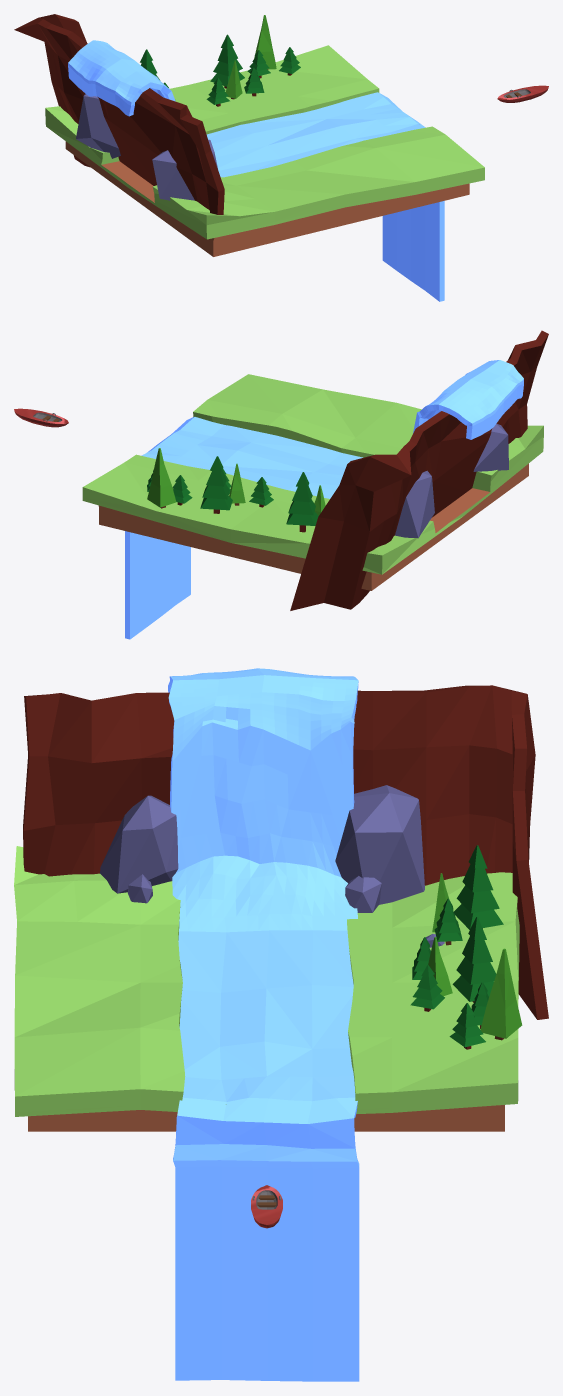
The model's file is waterfallV1.2.glb.
3 renders of one model, top to bottom at view 1: azimuth 30°, elevation 25°; view 2: azimuth 150°, elevation 25°; view 3: azimuth 270°, elevation 25°, orthographic. The views are drawn at different scales.
Parts seen in each view (by area): view 1: Flor, River, Cliff, Roc 2.001, Roc 2, Arbre 2.008, Arbre 1.002, Boat, Arbre 1.001, Arbre 2; view 2: Flor, River, Cliff, Roc 2.001, Roc 2, Arbre 2.007, Arbre 2.008, Arbre 1.002, Boat, Arbre 2, Arbre 1.001; view 3: River, Flor, Cliff, Roc 2.001, Roc 2, Arbre 2.007, Arbre 1.002, Arbre 2.008, Roc, Boat, Arbre 2.006, Arbre 2.002.
Part boxes in pixels (box(x1,y1,x2,y2)): Flor: box(45, 45, 484, 256); River: box(68, 40, 444, 301); Cliff: box(14, 14, 224, 214); Roc 2.001: box(76, 94, 120, 158); Roc 2: box(152, 139, 217, 200); Arbre 2.008: box(210, 34, 244, 88); Arbre 1.002: box(254, 15, 276, 69); Boat: box(497, 85, 548, 102); Arbre 1.001: box(225, 60, 242, 99); Arbre 2: box(206, 78, 229, 106); Flor: box(82, 374, 543, 590); River: box(125, 360, 523, 639); Cliff: box(290, 330, 548, 610); Roc 2.001: box(395, 470, 434, 538); Roc 2: box(473, 423, 508, 471); Arbre 2.007: box(286, 472, 318, 532); Arbre 2.008: box(200, 456, 232, 513); Arbre 1.002: box(147, 448, 176, 508); Boat: box(14, 408, 68, 427); Arbre 2: box(249, 477, 273, 507); Arbre 1.001: box(229, 463, 245, 505); River: box(168, 668, 359, 1381); Flor: box(14, 846, 519, 1131); Cliff: box(23, 685, 548, 1019); Roc 2.001: box(335, 785, 424, 904); Roc 2: box(100, 795, 178, 893); Arbre 2.007: box(454, 845, 503, 929); Arbre 1.002: box(480, 948, 522, 1040); Arbre 2.008: box(452, 916, 496, 1002); Roc: box(345, 876, 381, 912); Boat: box(251, 1185, 282, 1228); Arbre 2.006: box(449, 1003, 485, 1049); Arbre 2.002: box(410, 965, 444, 1011).
Size of the model in its own units: 13.91 by 8.55 by 8.75.
13 materials, 1 textured.
